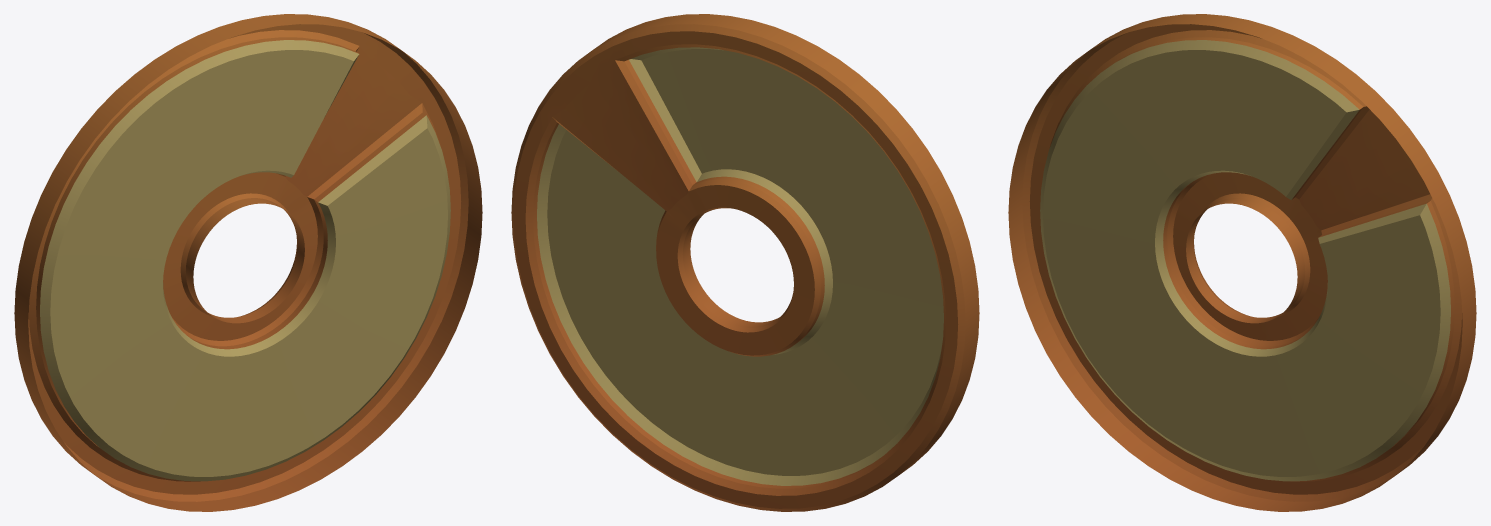
The model's file is SM_Bar_1.fbx.
The picture shows the model from 3 angles, left to right: view 1: azimuth 30°, elevation 25°; view 2: azimuth 150°, elevation 25°; view 3: azimuth 330°, elevation 25°; orthographic projection.
Parts seen in each view (by area): view 1: SM_Bar_1; view 2: SM_Bar_1; view 3: SM_Bar_1.
Part boxes in pixels (<box>): SM_Bar_1: <box>14,14,482,511</box>; SM_Bar_1: <box>511,14,979,511</box>; SM_Bar_1: <box>1008,14,1476,511</box>.
Size of the model in its own units: 23.29 by 23.29 by 1.5.
Materials: 2 (1 with a texture image).
